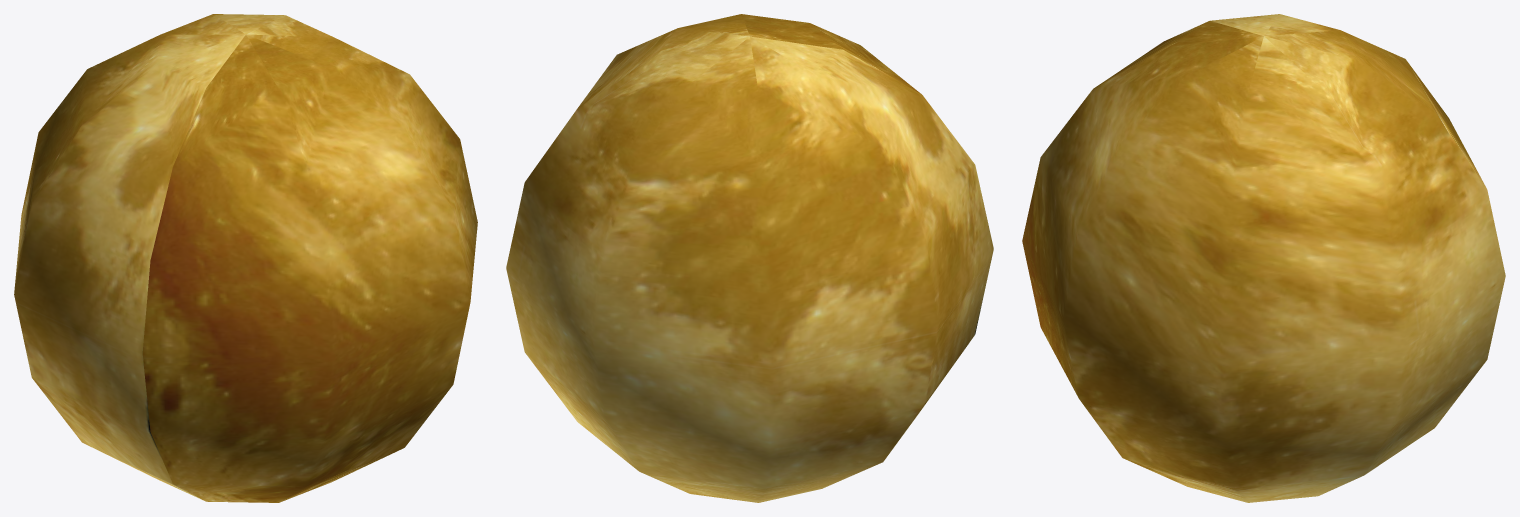
Rendered from moon.glb.
3 renders of one model, left to right at view 1: azimuth 30°, elevation 25°; view 2: azimuth 150°, elevation 25°; view 3: azimuth 270°, elevation 25°, orthographic.
Parts seen in each view (by area): view 1: Sphere; view 2: Sphere; view 3: Sphere.
Boxes of the visible parts, bbox=[...] form: Sphere: bbox=[14, 14, 477, 502]; Sphere: bbox=[506, 14, 993, 502]; Sphere: bbox=[1022, 14, 1505, 502].
Size of the model in its own units: 1.97 by 2 by 1.97.
1 material, 1 textured.
